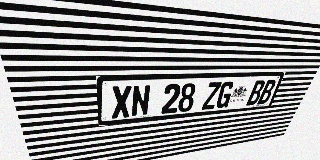2: (161, 83, 182, 114)
8: (177, 83, 198, 112)
B: (246, 80, 266, 106), (257, 80, 277, 104)
G: (215, 81, 235, 109)
N: (131, 85, 151, 117)
X: (111, 85, 132, 119)
Z: (201, 82, 222, 110)
